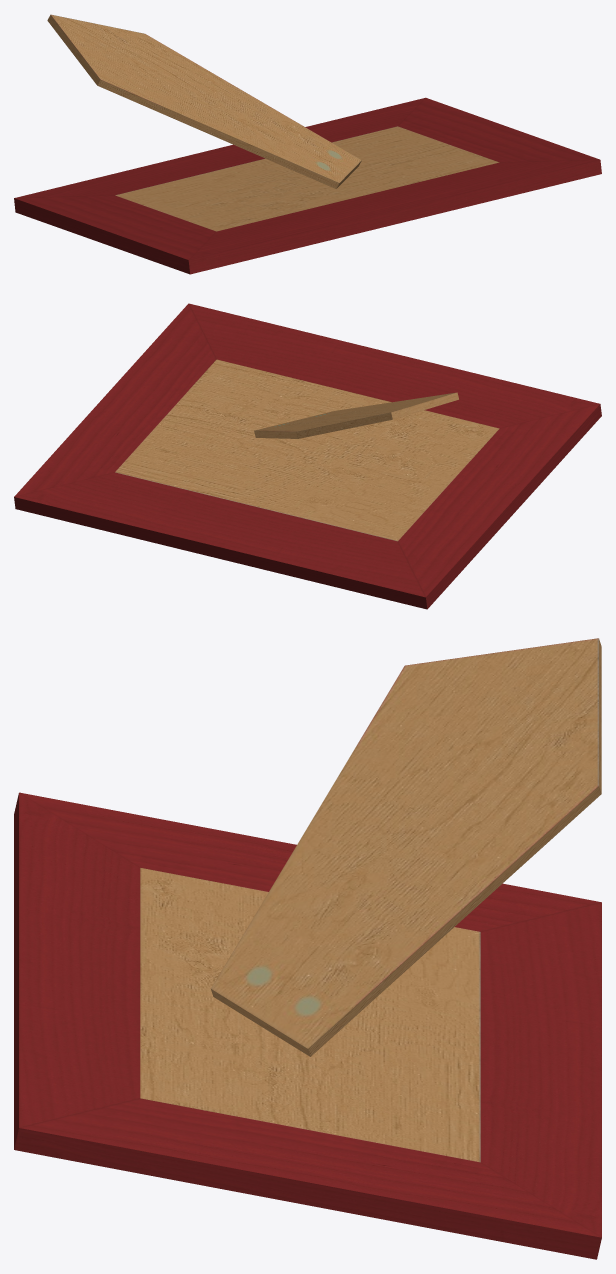
The model's file is PhotoframeOnTable1.obj.
3 renders of one model, top to bottom at view 1: azimuth 30°, elevation 25°; view 2: azimuth 150°, elevation 25°; view 3: azimuth 270°, elevation 25°, orthographic. The views are drawn at different scales.
Parts seen in each view (by area): view 1: PhotoframeOnTable1; view 2: PhotoframeOnTable1; view 3: PhotoframeOnTable1.
Boxes of the visible parts, x1,y1,x2,y2 form: PhotoframeOnTable1: (14, 14, 601, 274); PhotoframeOnTable1: (14, 303, 601, 609); PhotoframeOnTable1: (14, 638, 601, 1259).
Size of the model in its own units: 8 by 3.51 by 5.93.
Materials: 1 (1 with a texture image).
